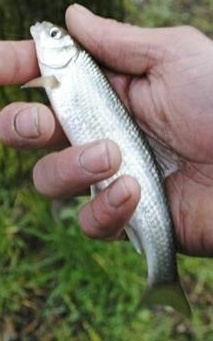Leuciscus leuciscus: (20, 20, 193, 321)
